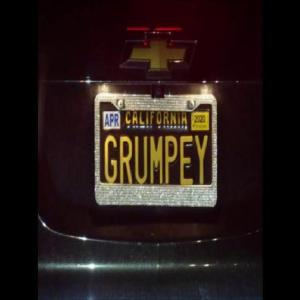Plate: (95, 92, 218, 208)
